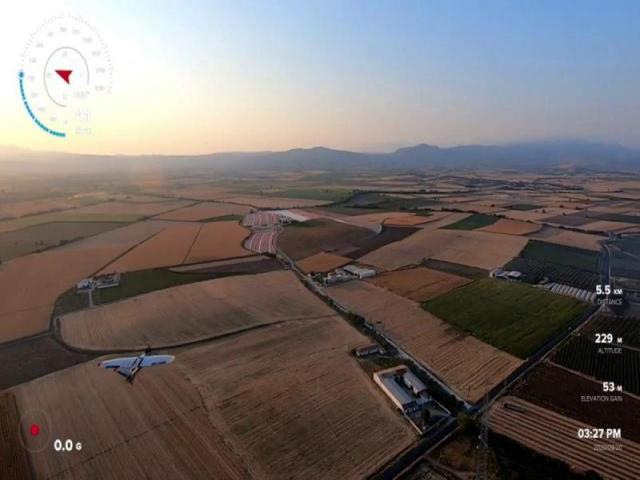hedef: (98, 340, 180, 390)
